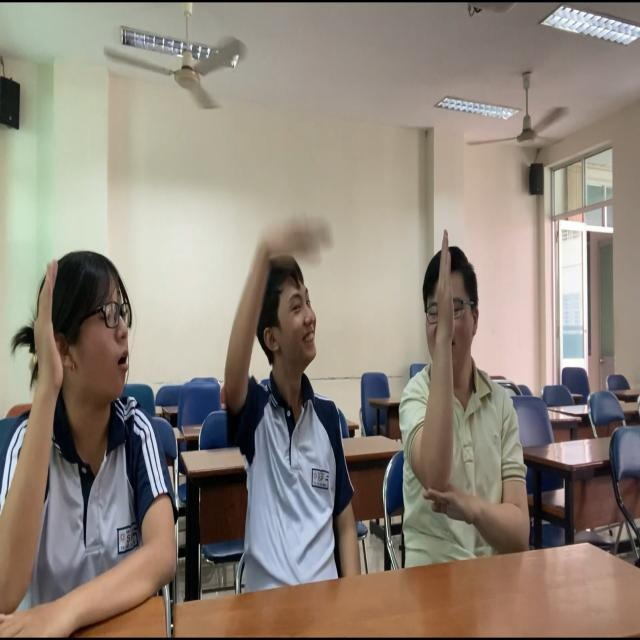raise_hand: (1, 202, 184, 640), (219, 195, 370, 613), (390, 220, 549, 582)
